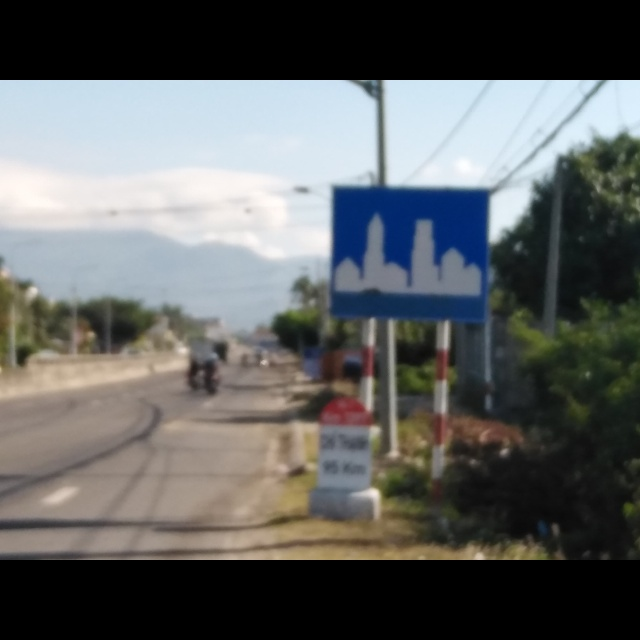Khu đông dân cư: (326, 180, 492, 328)
